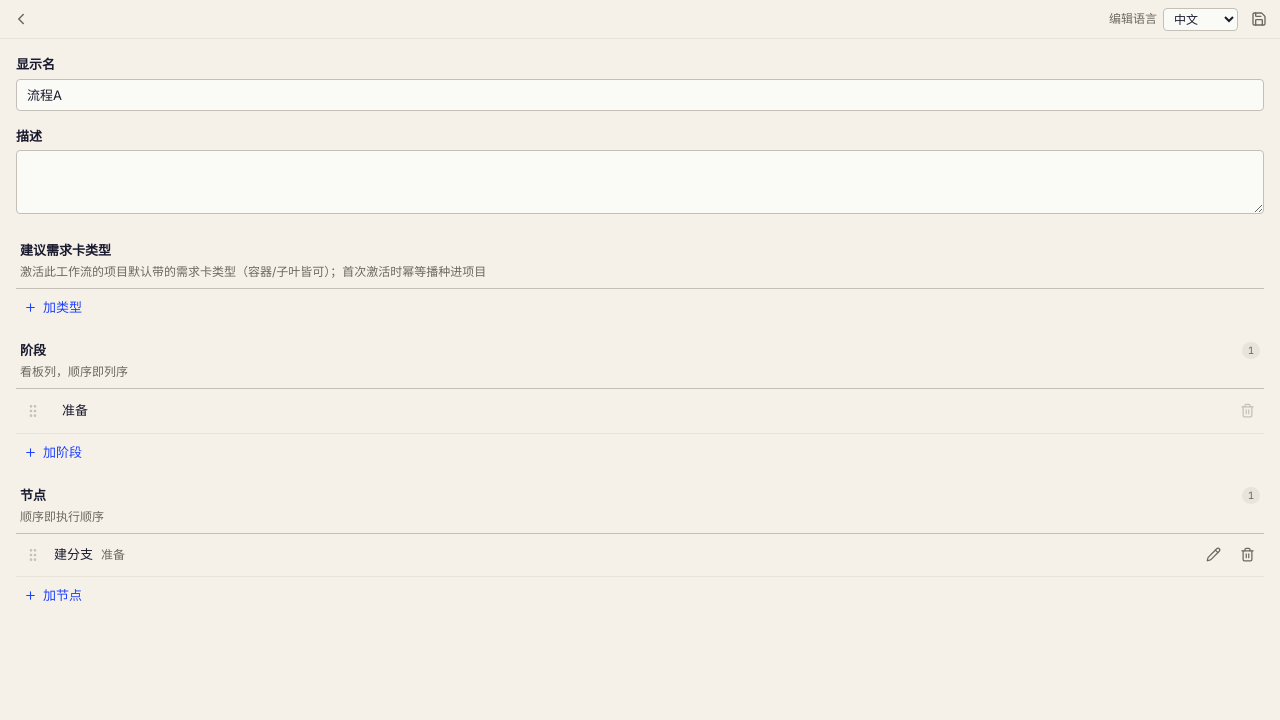
Test: WorkflowEditor 表单编辑 › 建分支无删分支：点保存弹模态提示且不写盘
The image size is (1280, 720).
Expected: the button named "编辑节点 建分支" is shown, [1200,542,1226,568]
Click the button named "保存": (1259, 19) [1246,6,1272,32]
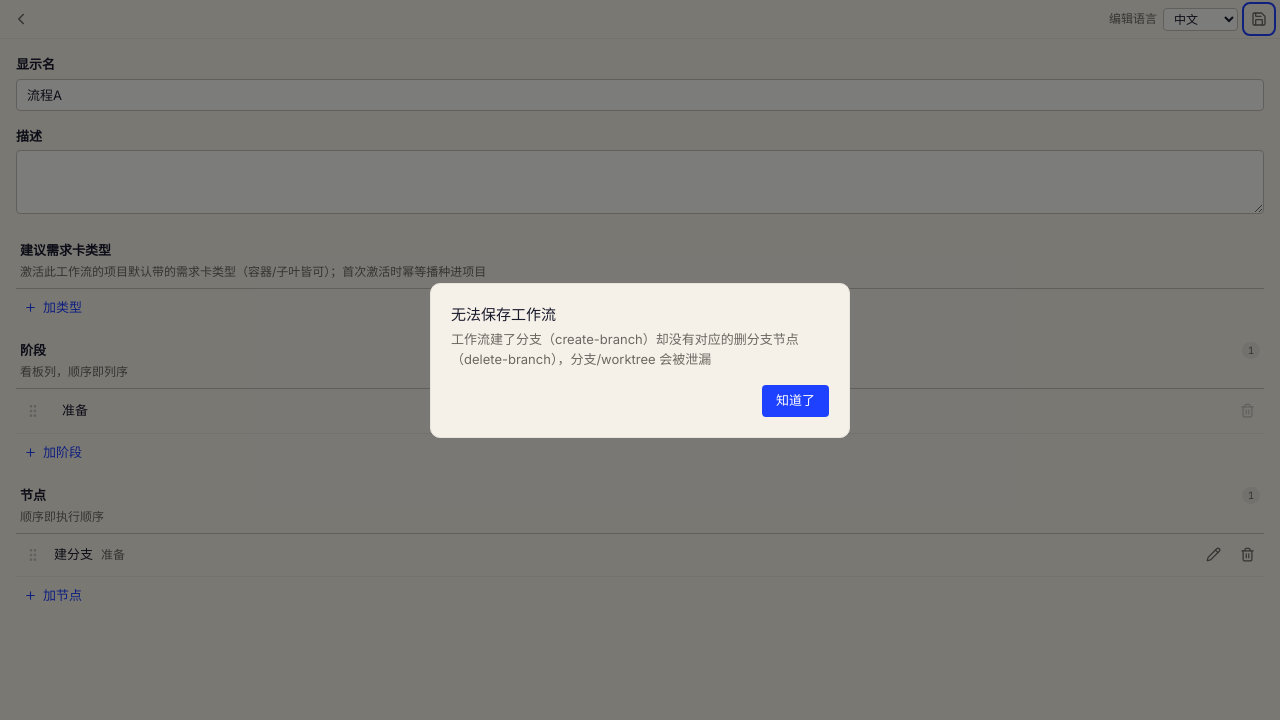
Expected: the text "delete-branch" is shown, [451,331,799,366]
// 「知道了」关闭模态
Click the button "知道了": (796, 401) [762,385,829,416]
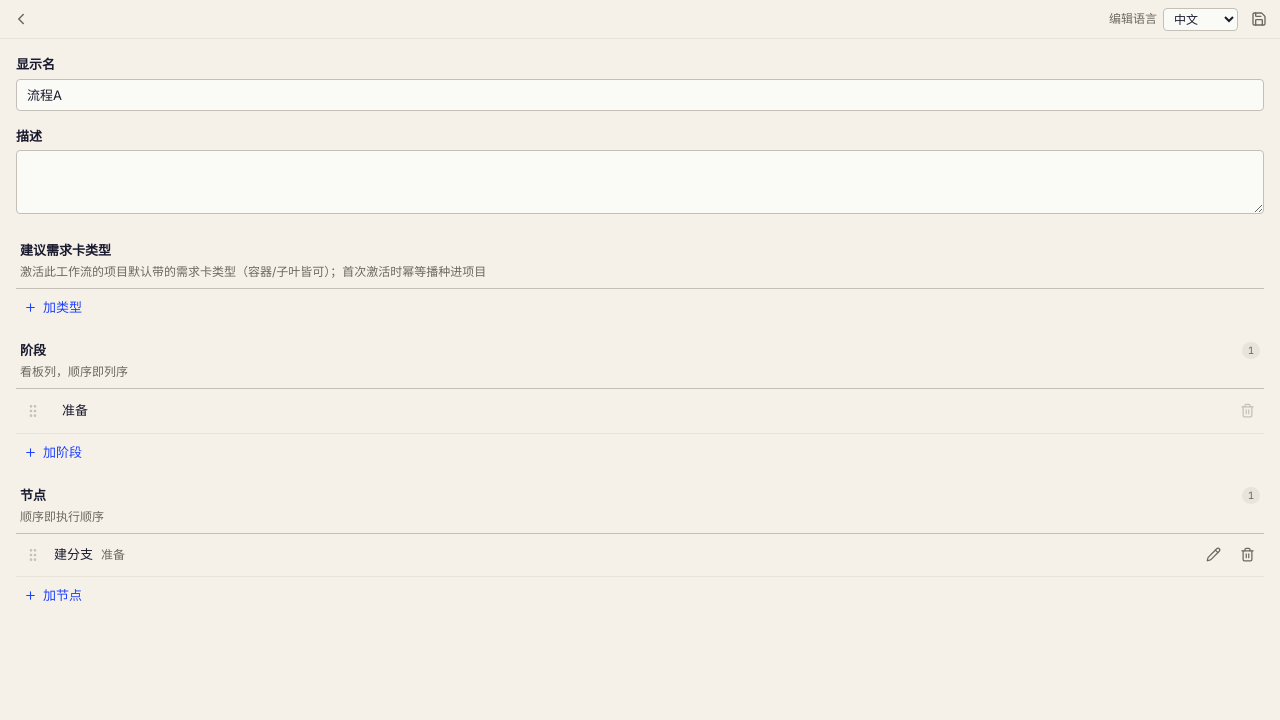
Expected: the dialog is gone
